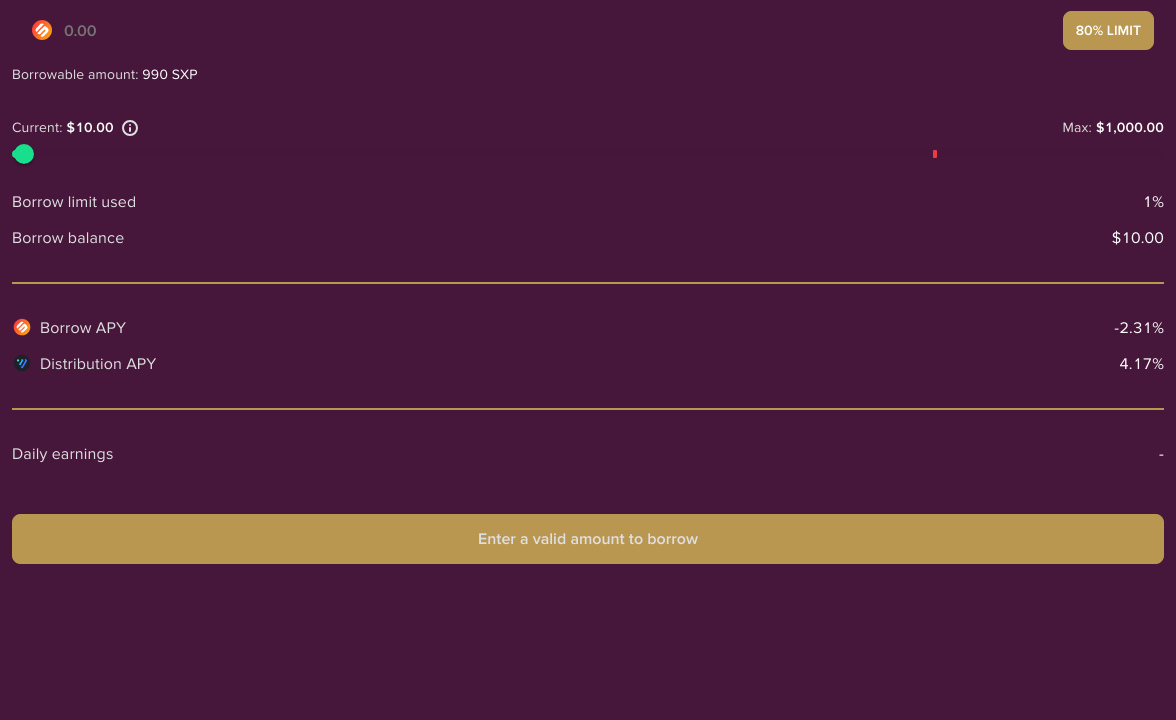
pages/Dashboard/BorrowRepayModal/Borrow › updates input value correctly when pressing on max button
Expected: the text "Enter a valid amount to borrow" is shown, [478,527,698,551]
Expected: the number field with test id "borrow-modal-token-text-field" is empty, [62,10,1059,50]
Note: Press on max button
Click the button "80% LIMIT".
click(1108, 30)  # box [1063,10,1154,50]
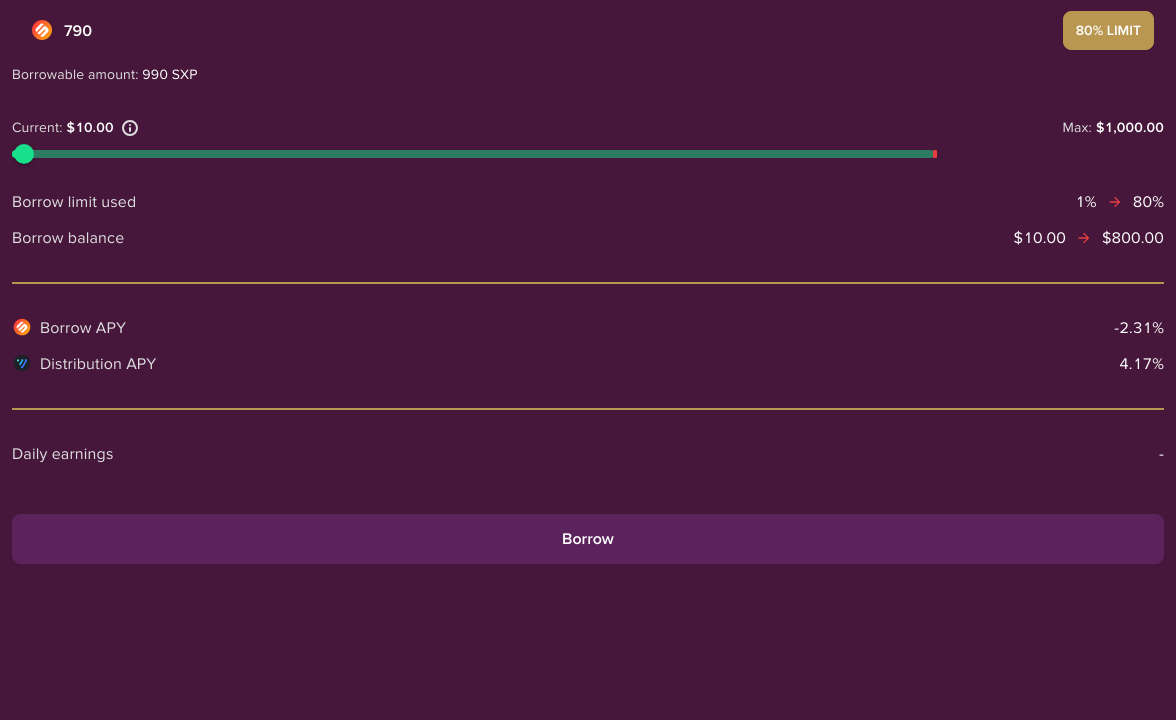
Expected: the number field with test id "borrow-modal-token-text-field" holds "790", [62,10,1059,50]
Expected: the button "Borrow" is enabled, [12,514,1164,564]
